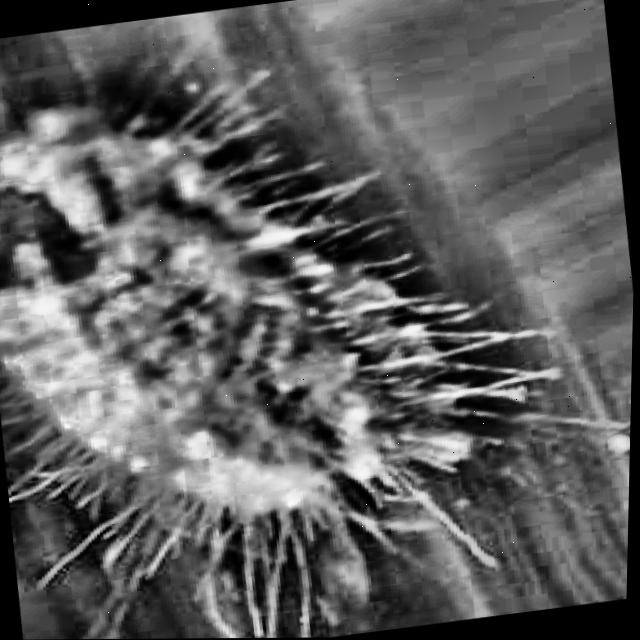Mealy-bug: (0, 39, 542, 591)
